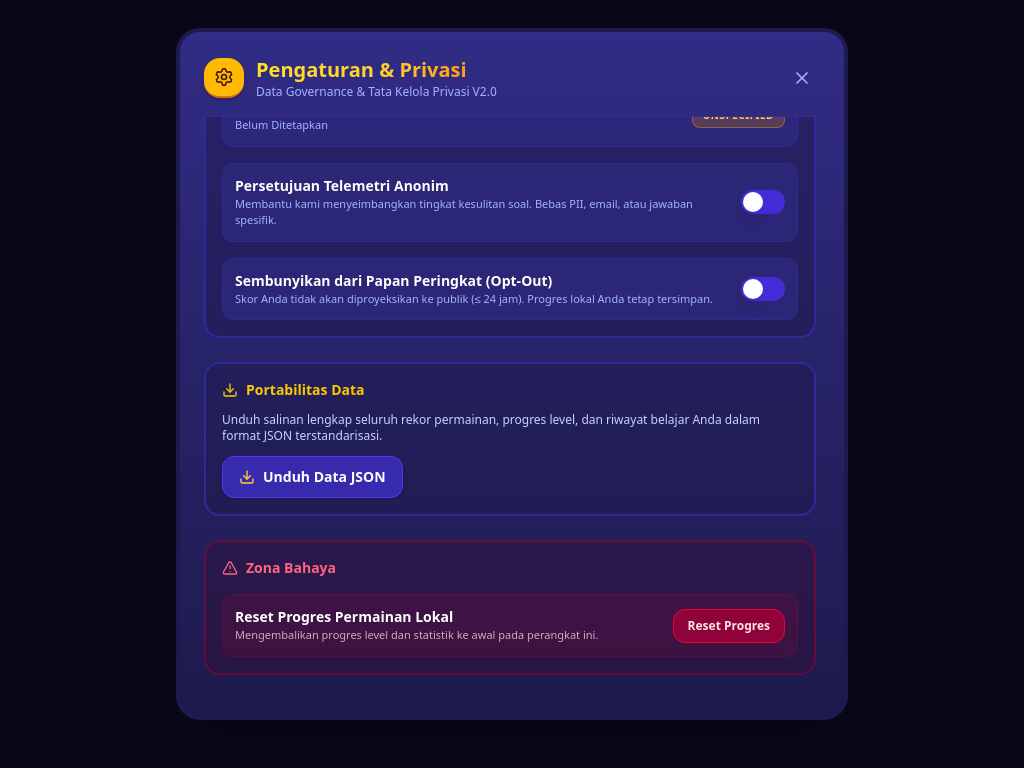
Scenario: SettingsModal component › closes confirmation submodal on Escape key press without closing main modal
(page scrolled)
Click the button "Reset Progres" at (729, 626), box [673,609,785,643]
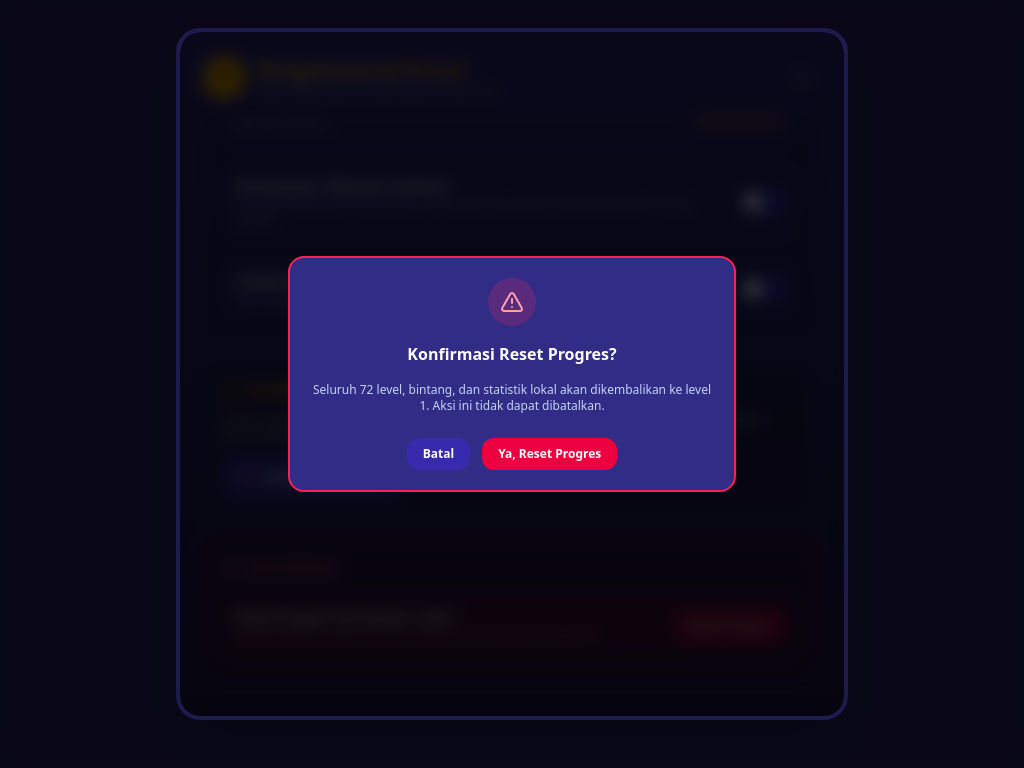
Expected: the heading "Konfirmasi Reset Progres?" is shown, [407,343,617,365]
Press Escape
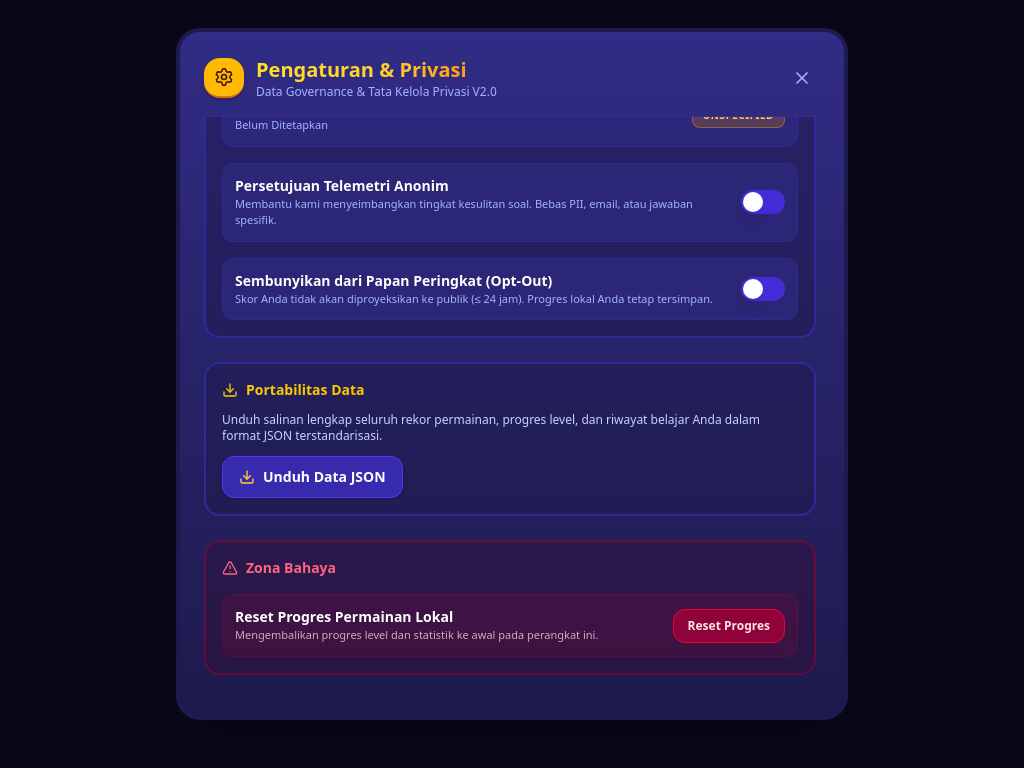
Expected: the heading "Konfirmasi Reset Progres?" is gone
